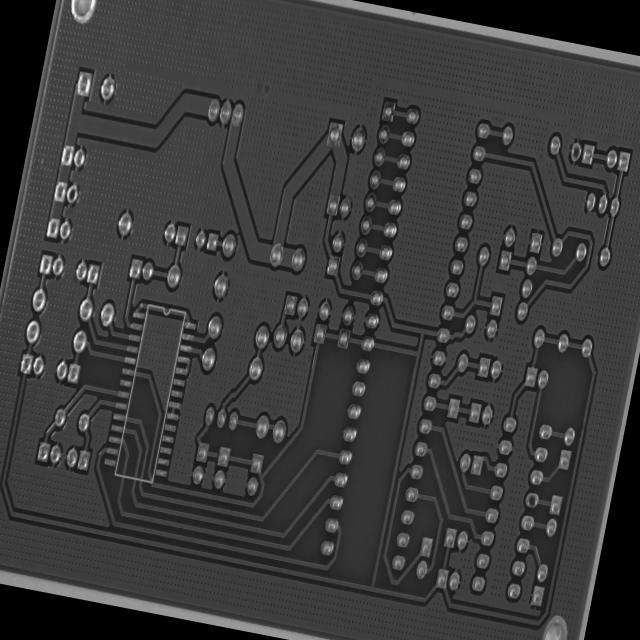missing_hole: (567, 136, 585, 168), (523, 487, 540, 512), (66, 181, 80, 205)
